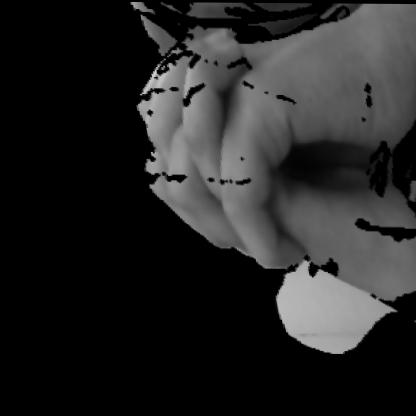prayer: (103, 12, 415, 292)
